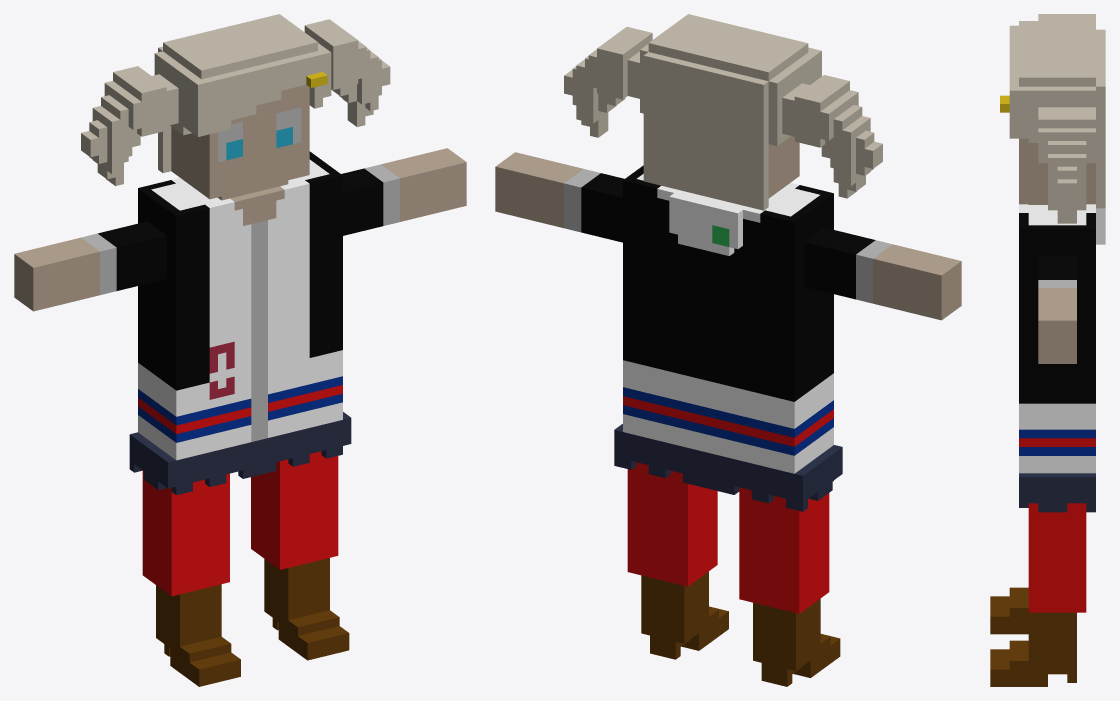
File: ann.obj
3 views of the same model, side by side, from view 1: azimuth 30°, elevation 25°; view 2: azimuth 150°, elevation 25°; view 3: azimuth 270°, elevation 25° (orthographic). The views are drawn at different scales.
Bounding box in the file's own units: 5.2 × 6.9 × 1.2.
Materials: 1 (1 with a texture image).
